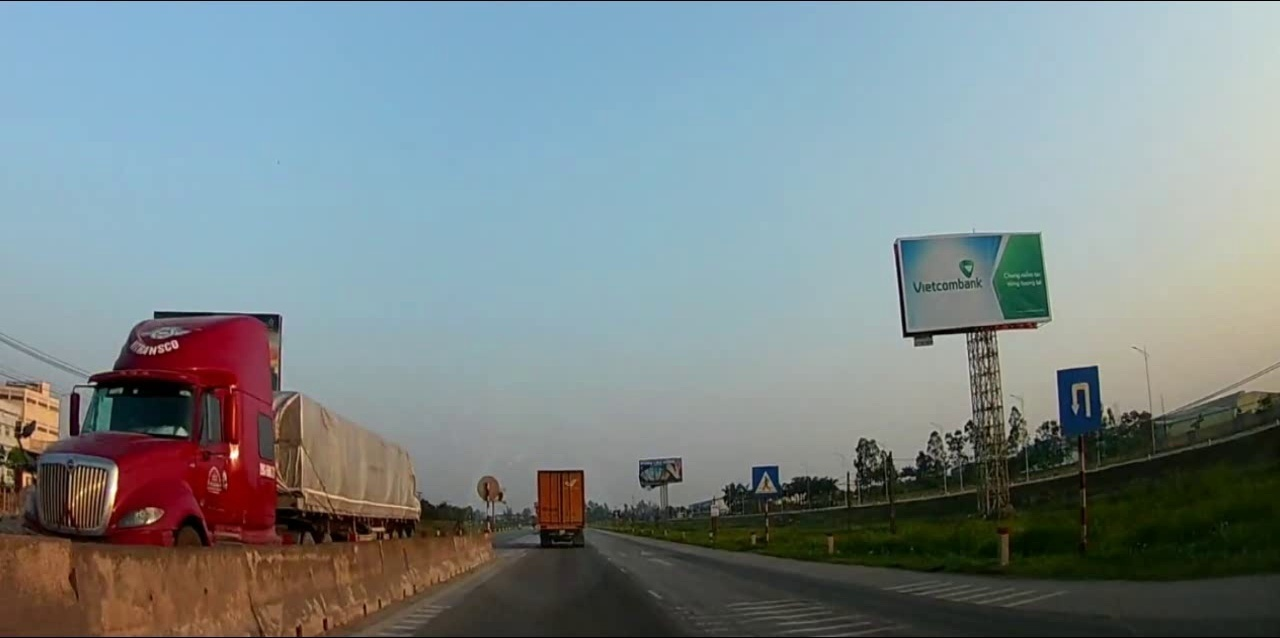Bien khac: (1054, 364, 1100, 434)
Nguoi di bo: (752, 464, 780, 496)
